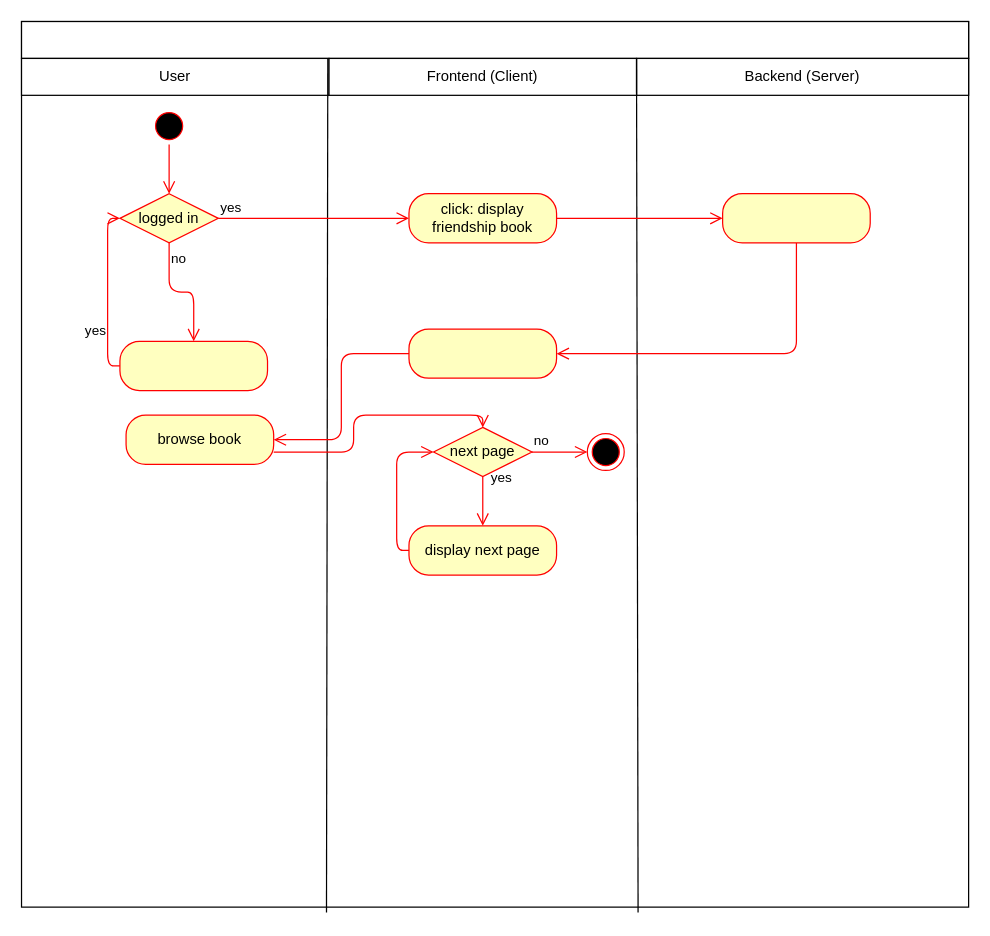
Some shapes in this 990 by 936 pixel diagram are drawn without their labels. The centre of each missing label's shape, as x and y in pixels:
display friendship book: [482,353]
load all book data for user: [795,217]
log in/ register: [193,365]
Read Cover: [494,39]
